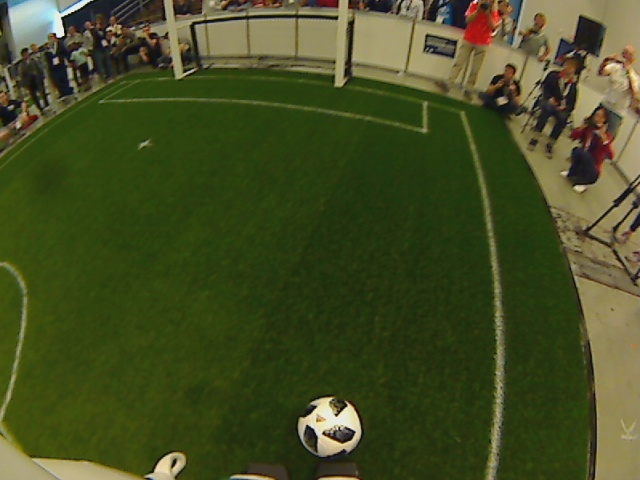ball: (294, 395, 363, 460)
